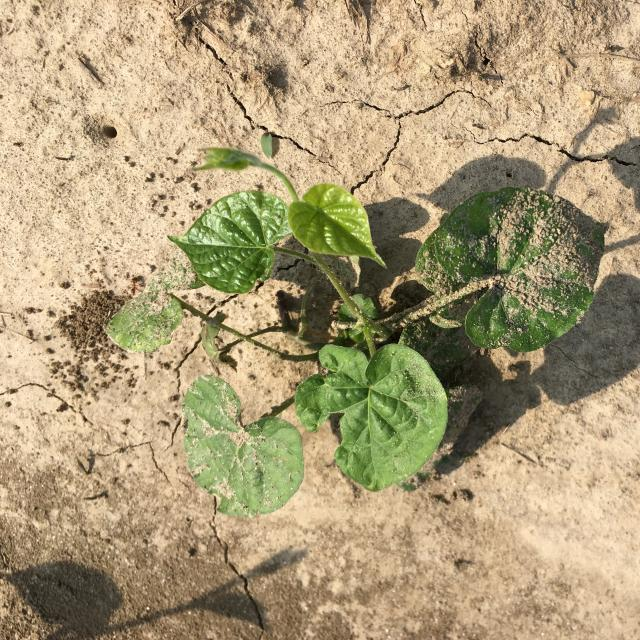MorningGlory: (106, 148, 608, 518)
